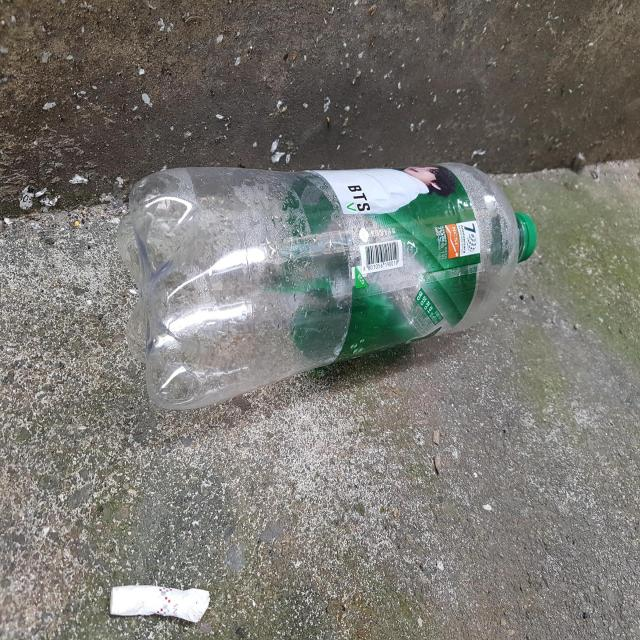plastic: (117, 163, 538, 409)
